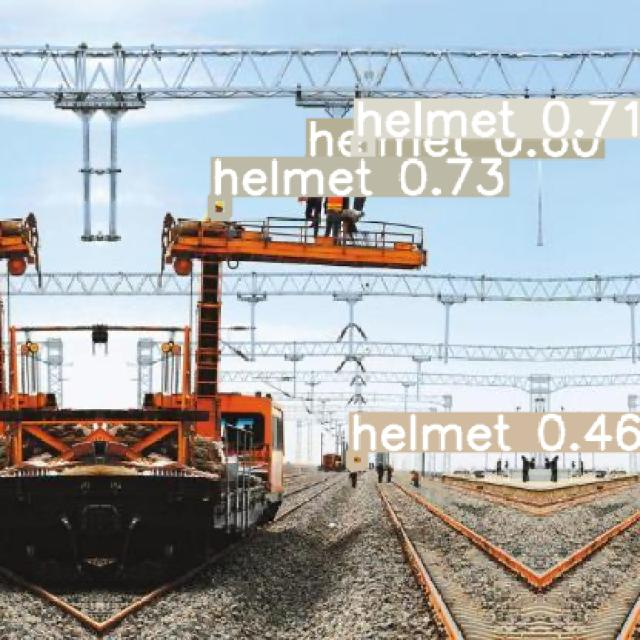helmet: (210, 196, 228, 216), (306, 157, 322, 177), (354, 137, 371, 155), (349, 451, 363, 466)
